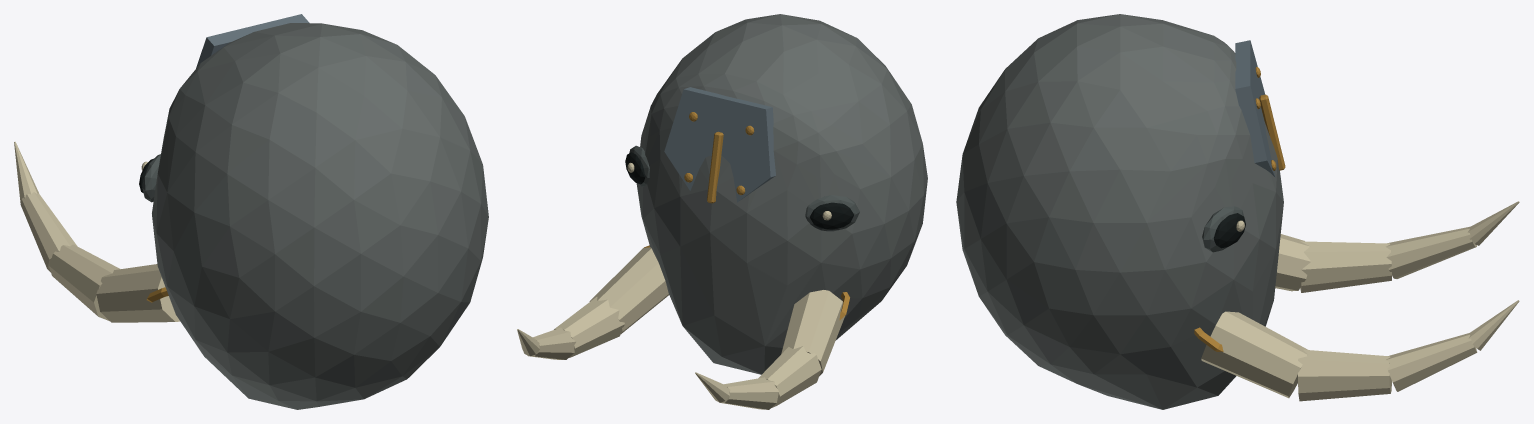
Rendered from Head.glb.
The picture shows the model from 3 angles, left to right: view 1: azimuth 30°, elevation 25°; view 2: azimuth 150°, elevation 25°; view 3: azimuth 270°, elevation 25°; orthographic projection. The views are drawn at different scales.
Parts seen in each view (by area): view 1: Sculpture; view 2: Sculpture; view 3: Sculpture.
Part boxes in pixels (x1,y1,x2,y2): Sculpture: (14,14,488,409); Sculpture: (517,14,927,409); Sculpture: (956,14,1519,409).
Bounding box in the file's own units: 1.17 × 1.45 × 1.98.
